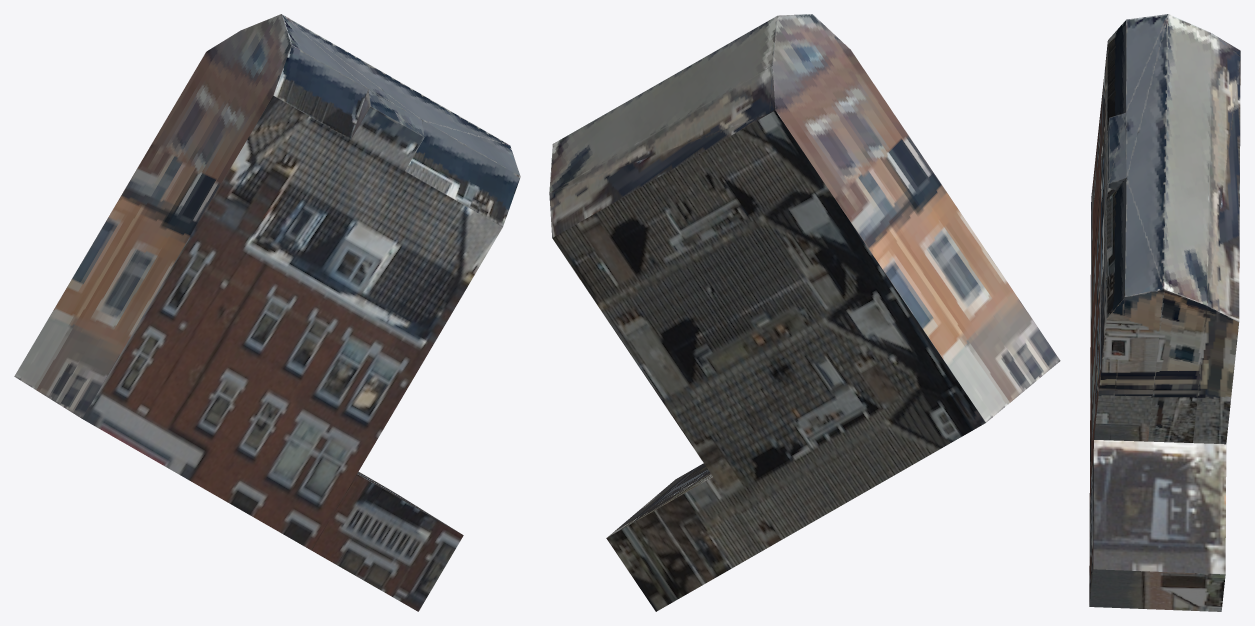
3 renders of one model, left to right at view 1: azimuth 30°, elevation 25°; view 2: azimuth 150°, elevation 25°; view 3: azimuth 270°, elevation 25°, orthographic. The views are drawn at different scales.
Visible parts, largest first — view 1: BAG_0599100000671715 (×5); view 2: BAG_0599100000671715 (×5); view 3: BAG_0599100000671715 (×7).
Part boxes in pixels (x1,y1,x2,y2): BAG_0599100000671715 (×5): (14, 14, 520, 611); BAG_0599100000671715 (×5): (549, 14, 1060, 611); BAG_0599100000671715 (×7): (1089, 14, 1240, 611).
Size of the model in its own units: 18.74 by 22.85 by 5.64.
Materials: 1 (1 with a texture image).
